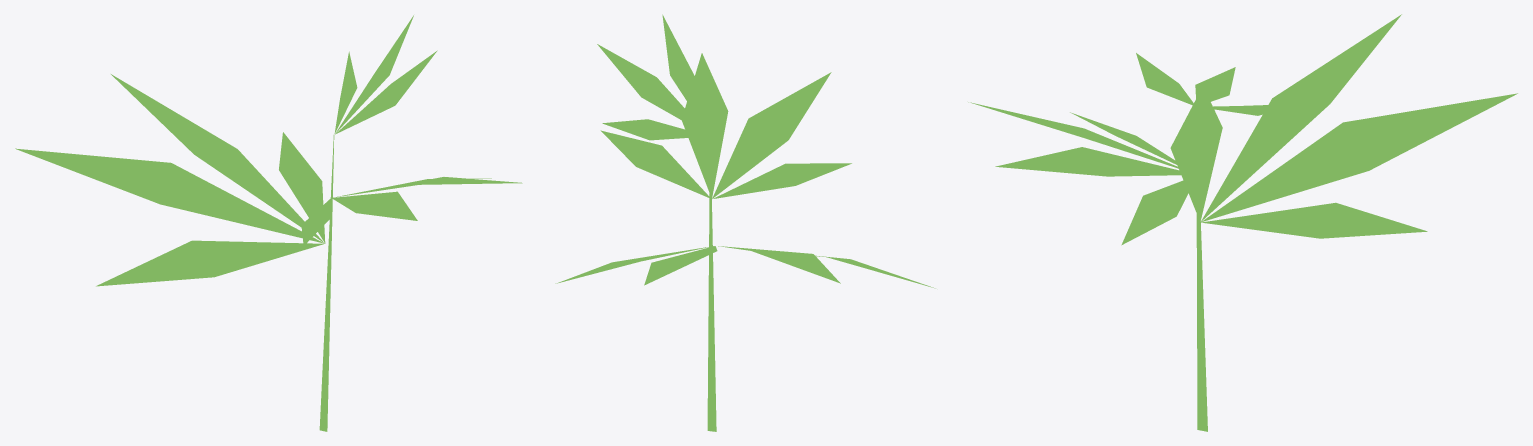
Rendered from Plant_i_OneS_09.fbx.
The picture shows the model from 3 angles, left to right: view 1: azimuth 30°, elevation 25°; view 2: azimuth 150°, elevation 25°; view 3: azimuth 270°, elevation 25°; orthographic projection. The views are drawn at different scales.
Parts seen in each view (by area): view 1: Plant_i_OneS_09; view 2: Plant_i_OneS_09; view 3: Plant_i_OneS_09.
Boxes of the visible parts, x1,y1,x2,y2 form: Plant_i_OneS_09: (15,15,522,431); Plant_i_OneS_09: (555,14,935,431); Plant_i_OneS_09: (968,14,1517,431).
Bounding box in the file's own units: 0.3103 × 0.2964 × 0.3514.
